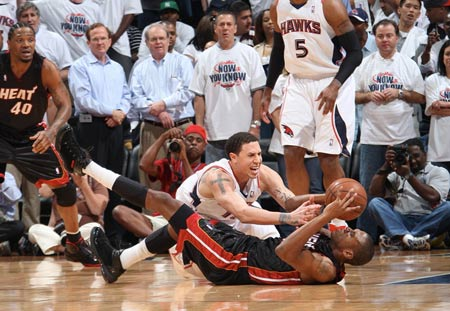10+: (1, 1, 450, 289)
down: (46, 121, 383, 290)
